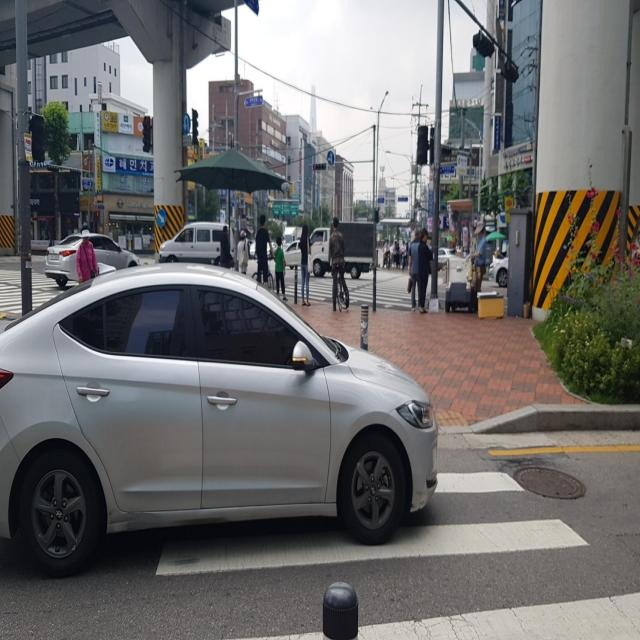횡단보도: (152, 466, 640, 639), (266, 256, 444, 306)
